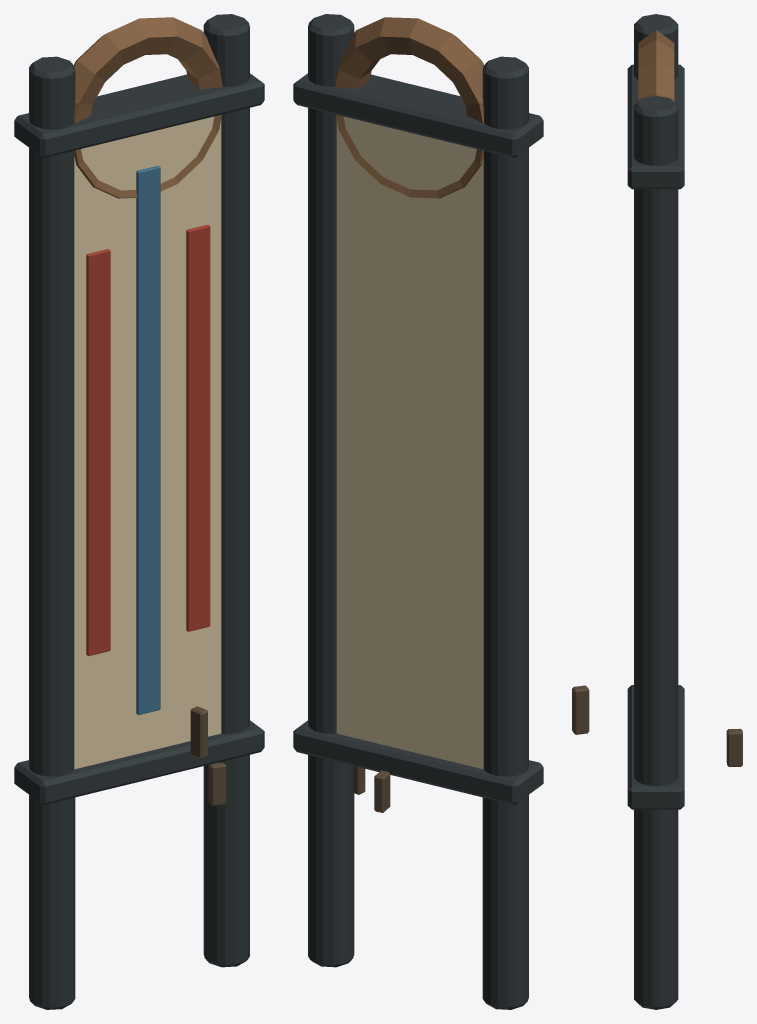
The model's file is runtime.glb.
3 renders of one model, left to right at view 1: azimuth 30°, elevation 25°; view 2: azimuth 150°, elevation 25°; view 3: azimuth 270°, elevation 25°, orthographic. The views are drawn at different scales.
Parts seen in each view (by area): view 1: eiffel-historic-information-v10_nocol; view 2: eiffel-historic-information-v10_nocol; view 3: eiffel-historic-information-v10_nocol.
Boxes of the visible parts, bbox=[...] form: eiffel-historic-information-v10_nocol: bbox=[14, 14, 264, 1009]; eiffel-historic-information-v10_nocol: bbox=[293, 14, 543, 1009]; eiffel-historic-information-v10_nocol: bbox=[572, 14, 742, 1009].
Size of the model in its own units: 0.7884 by 3.23 by 0.5421.
